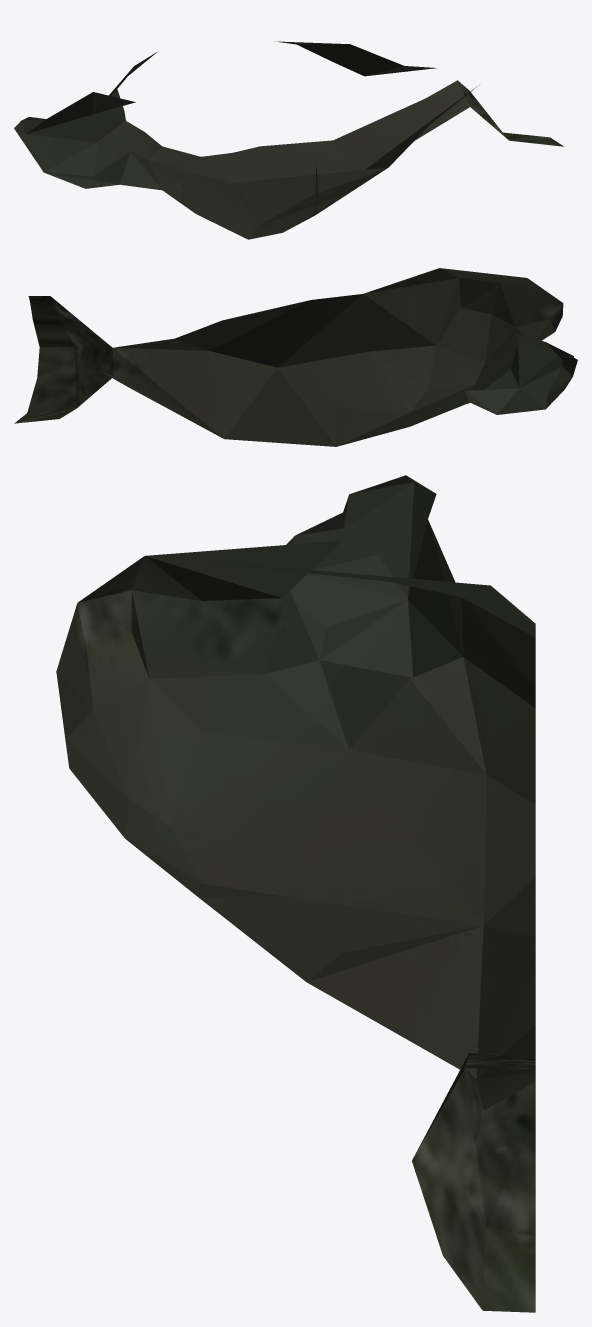
The picture shows the model from 3 angles, top to bottom: view 1: azimuth 30°, elevation 25°; view 2: azimuth 150°, elevation 25°; view 3: azimuth 270°, elevation 25°; orthographic projection. The views are drawn at different scales.
Bounding box in the file's own units: 2.67 × 0.8578 × 1.05.
2 materials, 2 textured.
